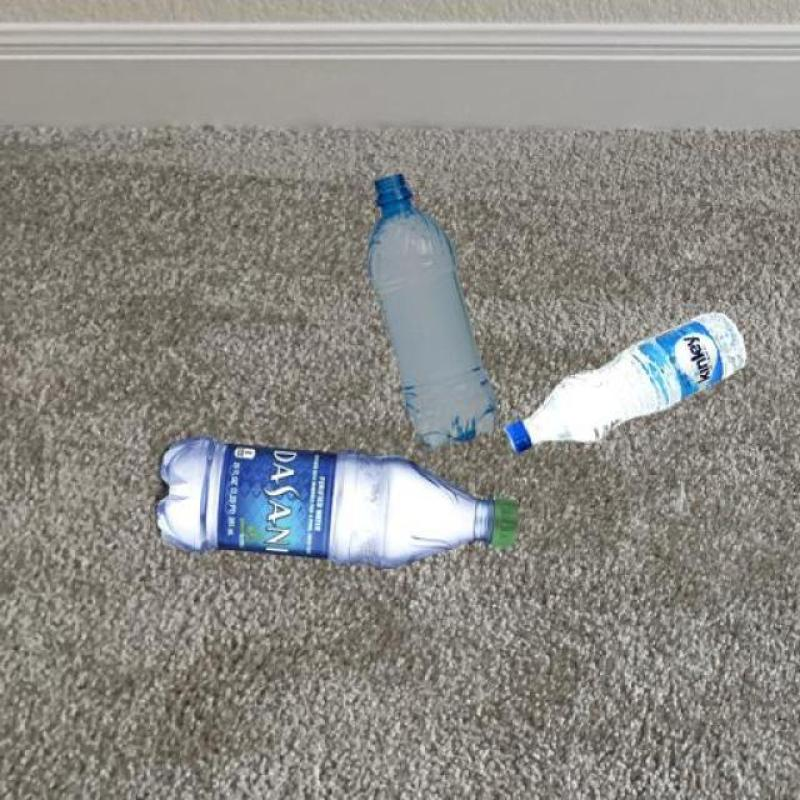botella: (153, 435, 522, 567), (366, 174, 498, 450), (503, 310, 746, 450)
